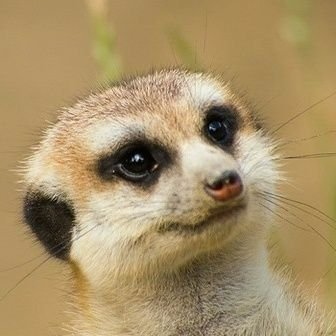meerkat: (22, 65, 326, 336)
